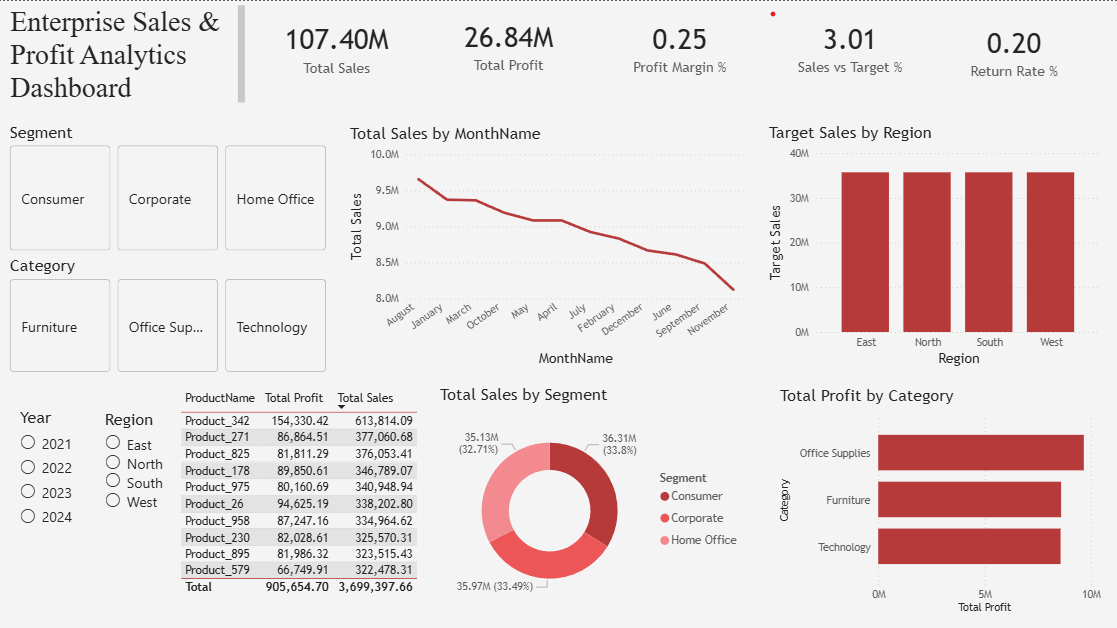

This screenshot's page, from the dashboard's own definition file:
{"tool":"powerbi","page":{"name":"Page 1","canvas":[1280,720],"ordinal":0},"visuals":[{"type":"card","fields":{"Values":["DateTable.Total Sales"]},"box":[286.7,8.3,200,88.3],"z":0},{"type":"card","fields":{"Values":["DateTable.Total Profit"]},"box":[486.7,10,193.3,80],"z":1},{"type":"card","fields":{"Values":["DateTable.Profit Margin %"]},"box":[685,6.7,190,90],"z":2},{"type":"card","fields":{"Values":["DateTable.Sales vs Target %"]},"box":[875,11.7,196.7,81.7],"z":3},{"type":"card","fields":{"Values":["DateTable.Return Rate %"]},"box":[1071.7,10,180,93.3],"z":4},{"type":"lineChart","fields":{"Category":["DateTable.MonthName"],"Y":["DateTable.Total Sales"]},"box":[396.7,140,461.7,281.7],"z":5},{"type":"columnChart","fields":{"Category":["customers_dataset.Region"],"Y":["DateTable.Target Sales"]},"box":[875,138.3,390,283.3],"z":6},{"type":"clusteredBarChart","fields":{"Category":["products_dataset.Category"],"Y":["DateTable.Total Profit"]},"box":[888.3,440,376.7,265],"z":7},{"type":"tableEx","fields":{"Values":["products_dataset.ProductName","DateTable.Total Profit","DateTable.Total Sales"]},"box":[203.3,438.3,283.3,265],"z":8},{"type":"donutChart","fields":{"Category":["customers_dataset.Segment"],"Y":["DateTable.Total Sales"]},"box":[500,438.3,358.3,266.7],"z":9},{"type":"listSlicer","fields":{"Values":["DateTable.Year"]},"box":[20.6,463.8,81,256.6],"z":10},{"type":"listSlicer","fields":{"Values":["customers_dataset.Region"]},"box":[116.6,466.6,86.4,208.6],"z":11},{"type":"advancedSlicerVisual","fields":{"Values":["customers_dataset.Segment"]},"box":[8.3,138.3,371.7,151.7],"z":12},{"type":"advancedSlicerVisual","fields":{"Values":["products_dataset.Category"]},"box":[8.3,291.7,371.7,138.3],"z":13},{"type":"textbox","box":[8.3,0,278.3,121.7],"z":14}]}

Visuals, with their boxes in screenshot pixels (x1, y1, x2, y2), scaled from the page's 1280x720 canvas onto the 1117x628 screenshot:
card - DateTable.Total Sales: BBox(250, 7, 425, 84)
card - DateTable.Total Profit: BBox(425, 9, 593, 78)
card - DateTable.Profit Margin %: BBox(598, 6, 764, 84)
card - DateTable.Sales vs Target %: BBox(764, 10, 935, 81)
card - DateTable.Return Rate %: BBox(935, 9, 1092, 90)
lineChart - DateTable.MonthName x DateTable.Total Sales: BBox(346, 122, 749, 368)
columnChart - customers_dataset.Region x DateTable.Target Sales: BBox(764, 121, 1104, 368)
clusteredBarChart - products_dataset.Category x DateTable.Total Profit: BBox(775, 384, 1104, 615)
tableEx - products_dataset.ProductName x DateTable.Total Profit: BBox(177, 382, 425, 613)
donutChart - customers_dataset.Segment x DateTable.Total Sales: BBox(436, 382, 749, 615)
listSlicer - DateTable.Year: BBox(18, 405, 89, 627)
listSlicer - customers_dataset.Region: BBox(102, 407, 177, 589)
advancedSlicerVisual - customers_dataset.Segment: BBox(7, 121, 332, 253)
advancedSlicerVisual - products_dataset.Category: BBox(7, 254, 332, 375)
textbox: BBox(7, 0, 250, 106)
